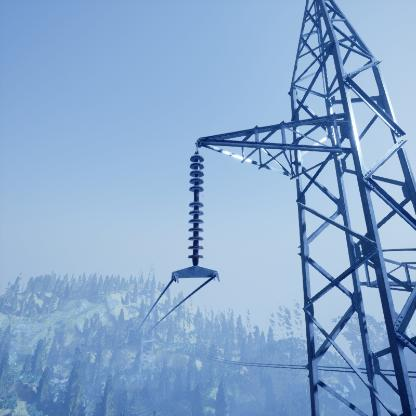insulator: (186, 153, 206, 265)
